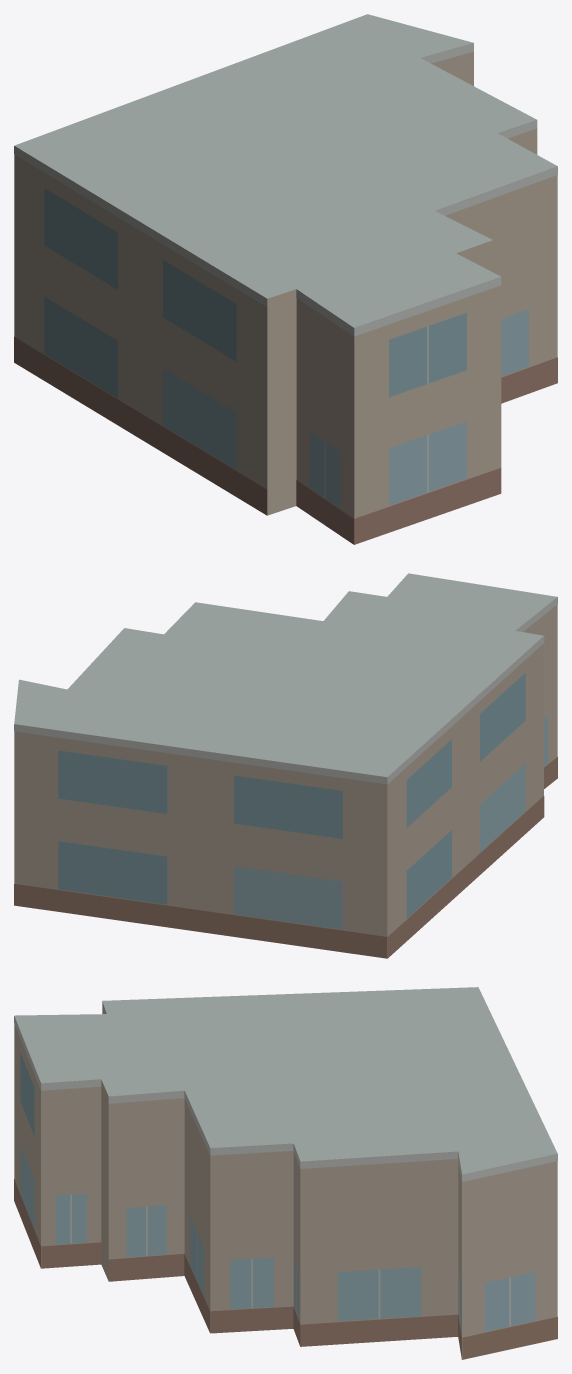
The model's file is survey-upis-32750595.glb.
3 renders of one model, top to bottom at view 1: azimuth 30°, elevation 25°; view 2: azimuth 150°, elevation 25°; view 3: azimuth 270°, elevation 25°, orthographic. The views are drawn at different scales.
Parts seen in each view (by area): view 1: survey-upis-32750595.tmp; view 2: survey-upis-32750595.tmp; view 3: survey-upis-32750595.tmp.
Boxes of the visible parts, <box> form: survey-upis-32750595.tmp: <box>14,14,557,544</box>; survey-upis-32750595.tmp: <box>14,573,557,958</box>; survey-upis-32750595.tmp: <box>14,987,557,1359</box>.
Size of the model in its own units: 13.26 by 6.1 by 16.24.
